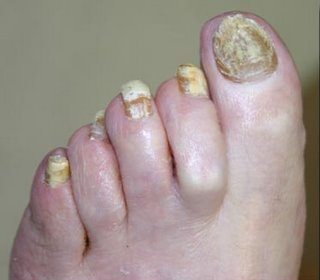Nail Fungal Infection: (210, 20, 280, 74), (175, 67, 206, 95), (42, 155, 66, 188)
